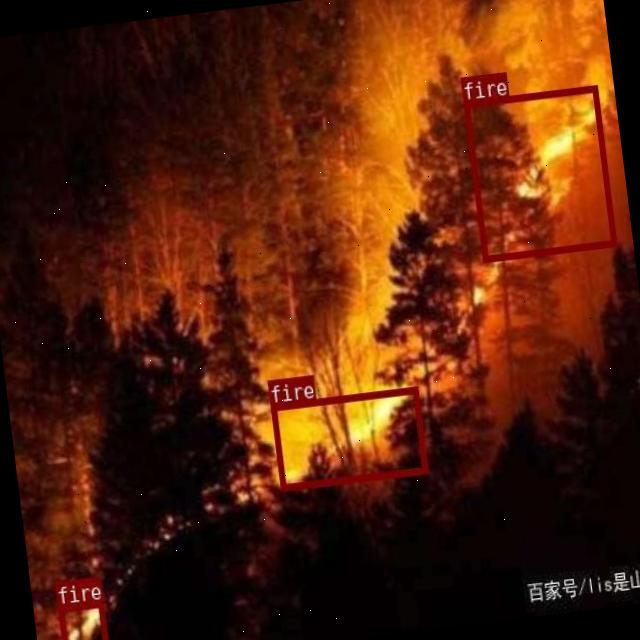fire: (462, 82, 616, 260), (270, 386, 426, 489), (56, 599, 107, 640)
